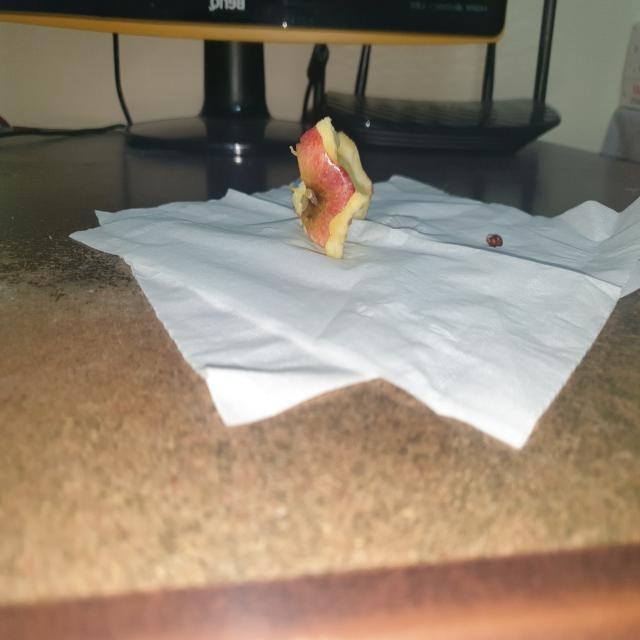apple: (282, 112, 379, 260)
